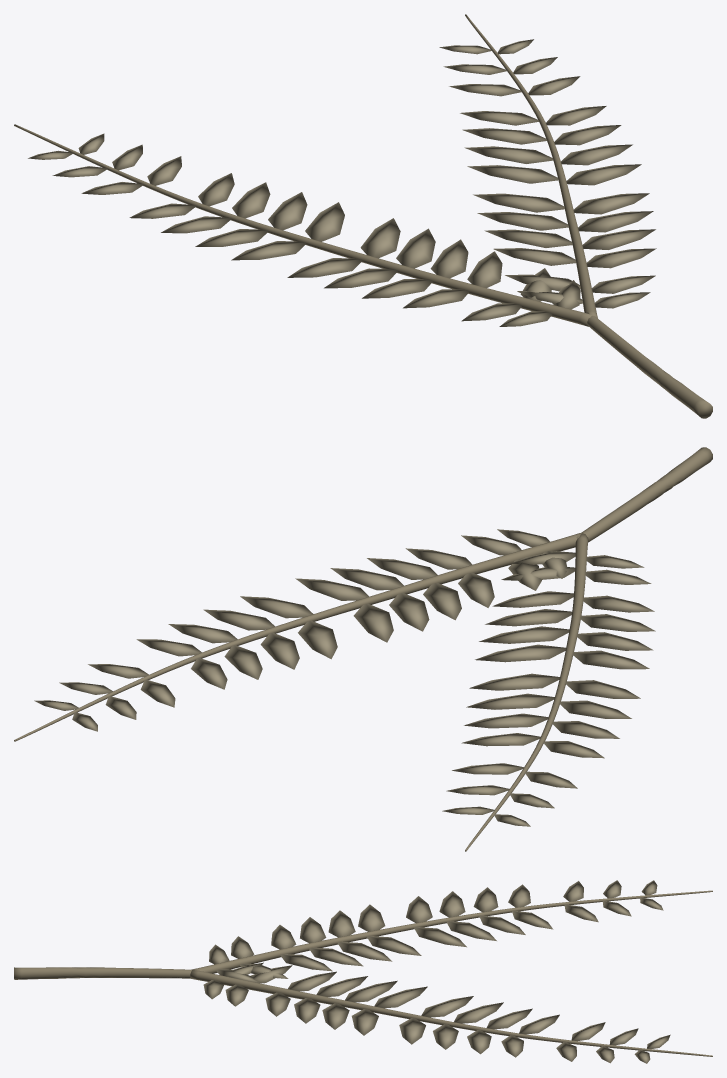
File: dicroidium.glb
3 renders of one model, top to bottom at view 1: azimuth 30°, elevation 25°; view 2: azimuth 150°, elevation 25°; view 3: azimuth 270°, elevation 25°, orthographic. The views are drawn at different scales.
Parts seen in each view (by area): view 1: one-consistent-elongate-entire-pinnule-form-on-both-arms, preserved-foliage-basal-Y-rachis-only; view 2: one-consistent-elongate-entire-pinnule-form-on-both-arms, preserved-foliage-basal-Y-rachis-only; view 3: one-consistent-elongate-entire-pinnule-form-on-both-arms, preserved-foliage-basal-Y-rachis-only.
Boxes of the visible parts, x1,y1,x2,y2 form: one-consistent-elongate-entire-pinnule-form-on-both-arms: [28, 39, 656, 326]; preserved-foliage-basal-Y-rachis-only: [14, 14, 712, 418]; one-consistent-elongate-entire-pinnule-form-on-both-arms: [34, 529, 655, 826]; preserved-foliage-basal-Y-rachis-only: [14, 447, 712, 851]; one-consistent-elongate-entire-pinnule-form-on-both-arms: [203, 880, 670, 1063]; preserved-foliage-basal-Y-rachis-only: [14, 890, 712, 1056].
Bounding box in the file's own units: 0.3735 × 0.0111 × 0.6.
